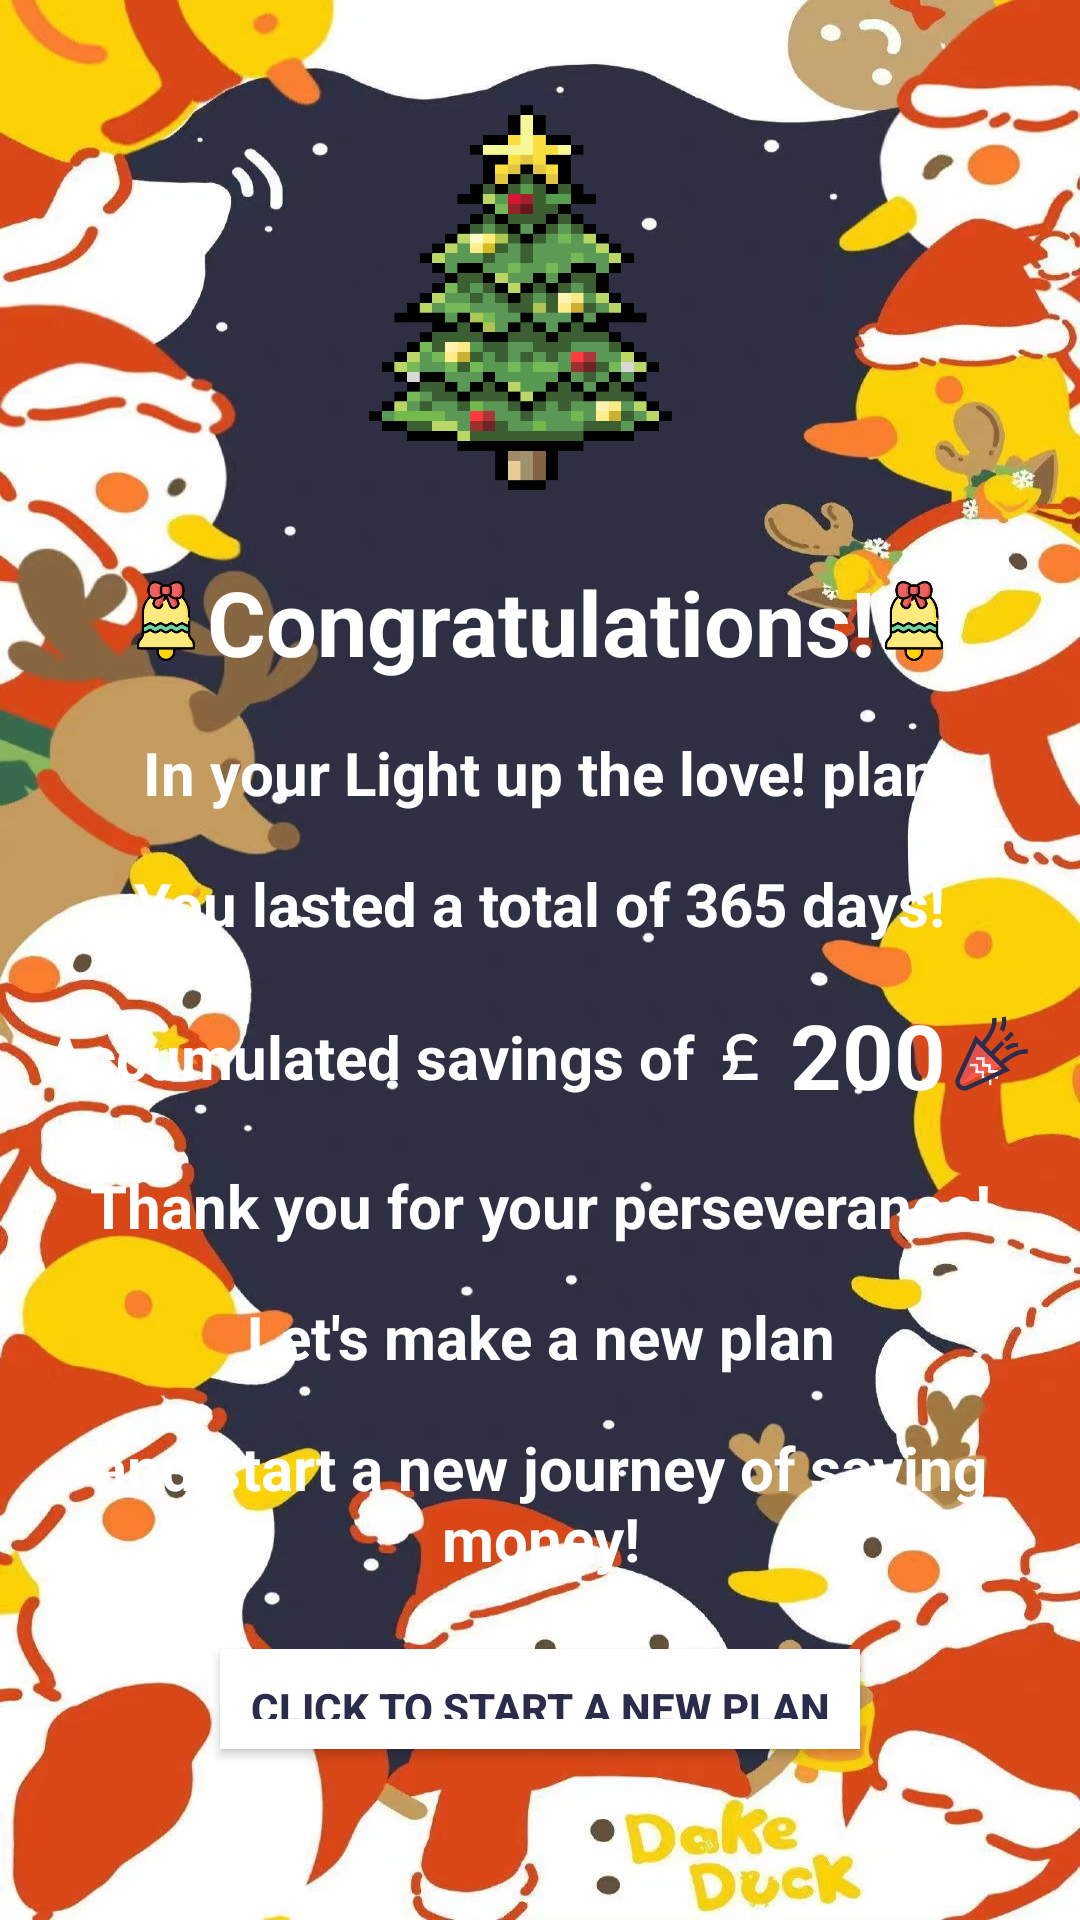

Where to tap for icons on this 1080 × 1920 app screen, as (x,y):
congratulation: (991,1054)
